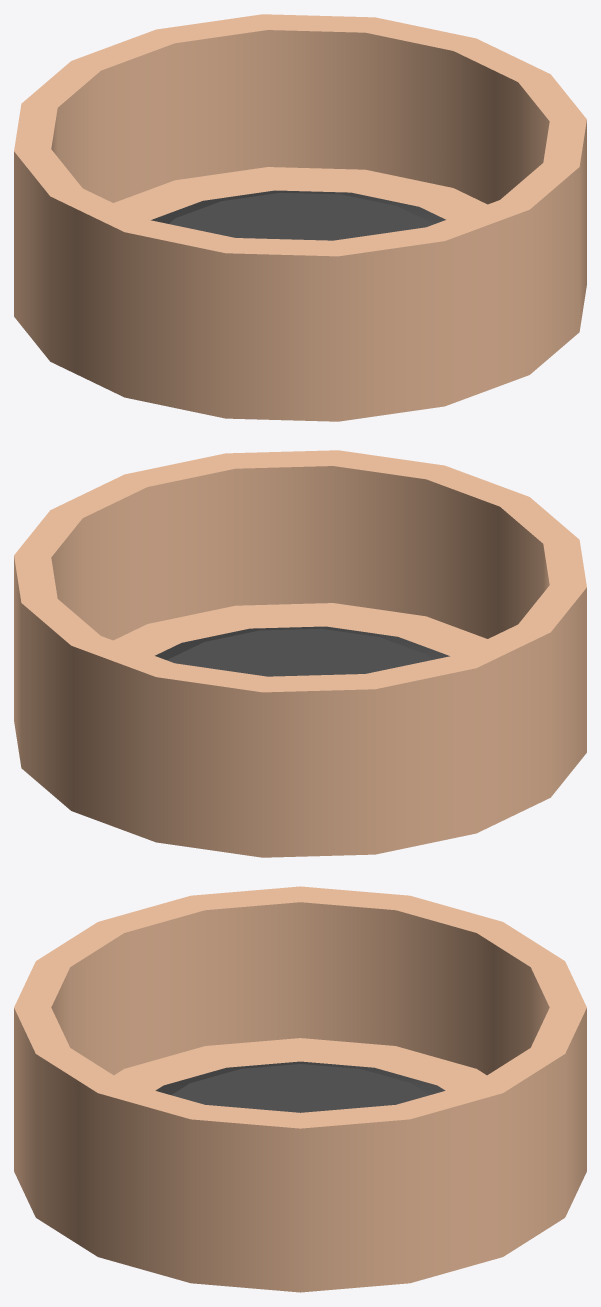
File: Protection_001.glb
The picture shows the model from 3 angles, top to bottom: view 1: azimuth 30°, elevation 25°; view 2: azimuth 150°, elevation 25°; view 3: azimuth 270°, elevation 25°; orthographic projection.
Visible parts, largest first — view 1: Protection_001; view 2: Protection_001; view 3: Protection_001.
Boxes of the visible parts, x1,y1,x2,y2 form: Protection_001: (14,14,586,421); Protection_001: (14,450,586,857); Protection_001: (14,886,586,1292).
Size of the model in its own units: 1.09 by 0.345 by 1.09.
1 material, 1 textured.
